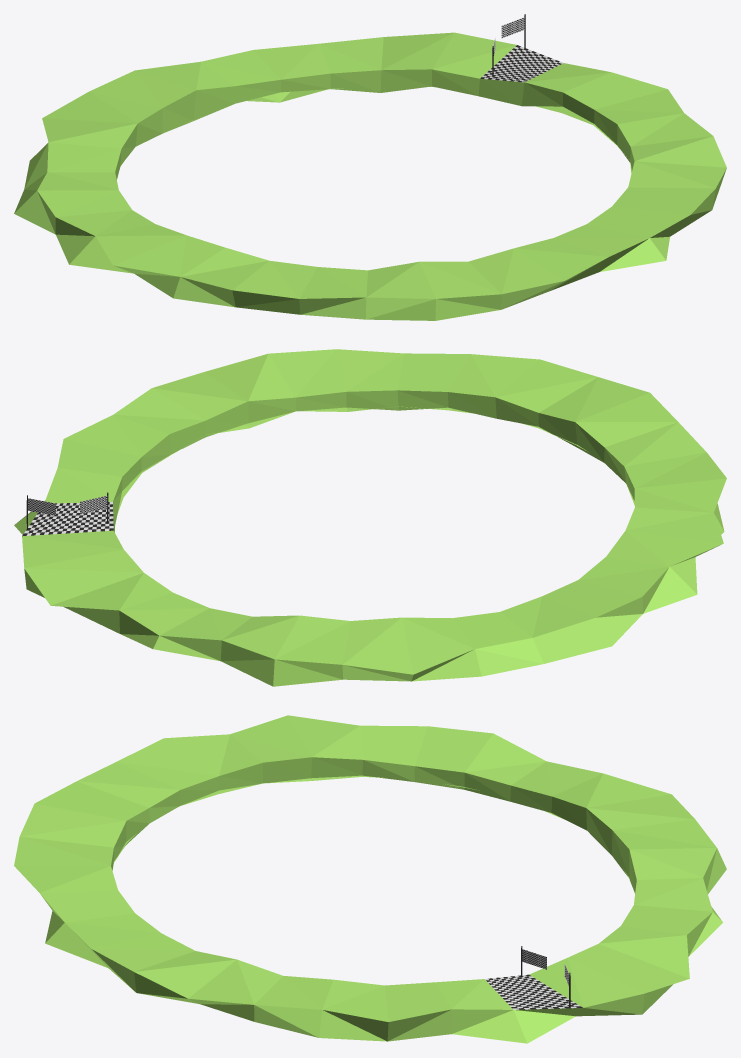
The model's file is newRingTwo.fbx.
3 views of the same model, one above another, from view 1: azimuth 30°, elevation 25°; view 2: azimuth 150°, elevation 25°; view 3: azimuth 270°, elevation 25° (orthographic).
Visible parts, largest first — view 1: Cylinder.001; view 2: Cylinder.001; view 3: Cylinder.001.
Boxes of the visible parts, x1,y1,x2,y2 form: Cylinder.001: (14, 14, 726, 320); Cylinder.001: (14, 349, 726, 686); Cylinder.001: (14, 715, 726, 1043).
Bounding box in the file's own units: 2724 × 250 × 2703.
